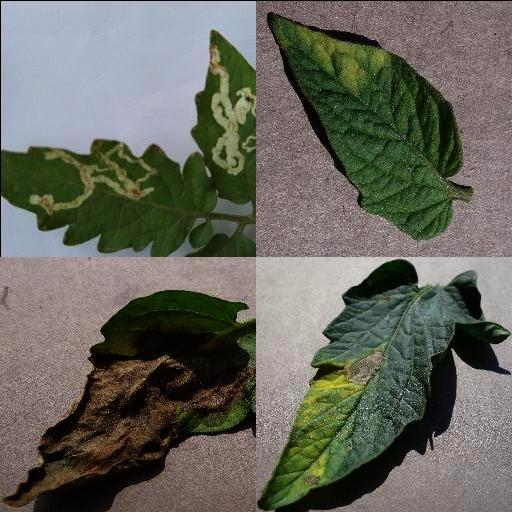Early Blight: (257, 258, 511, 508)
Late Blight: (0, 286, 256, 510)
Leaf Miner: (0, 138, 208, 256), (190, 28, 256, 205)
Leaf Mold: (267, 12, 465, 240)
